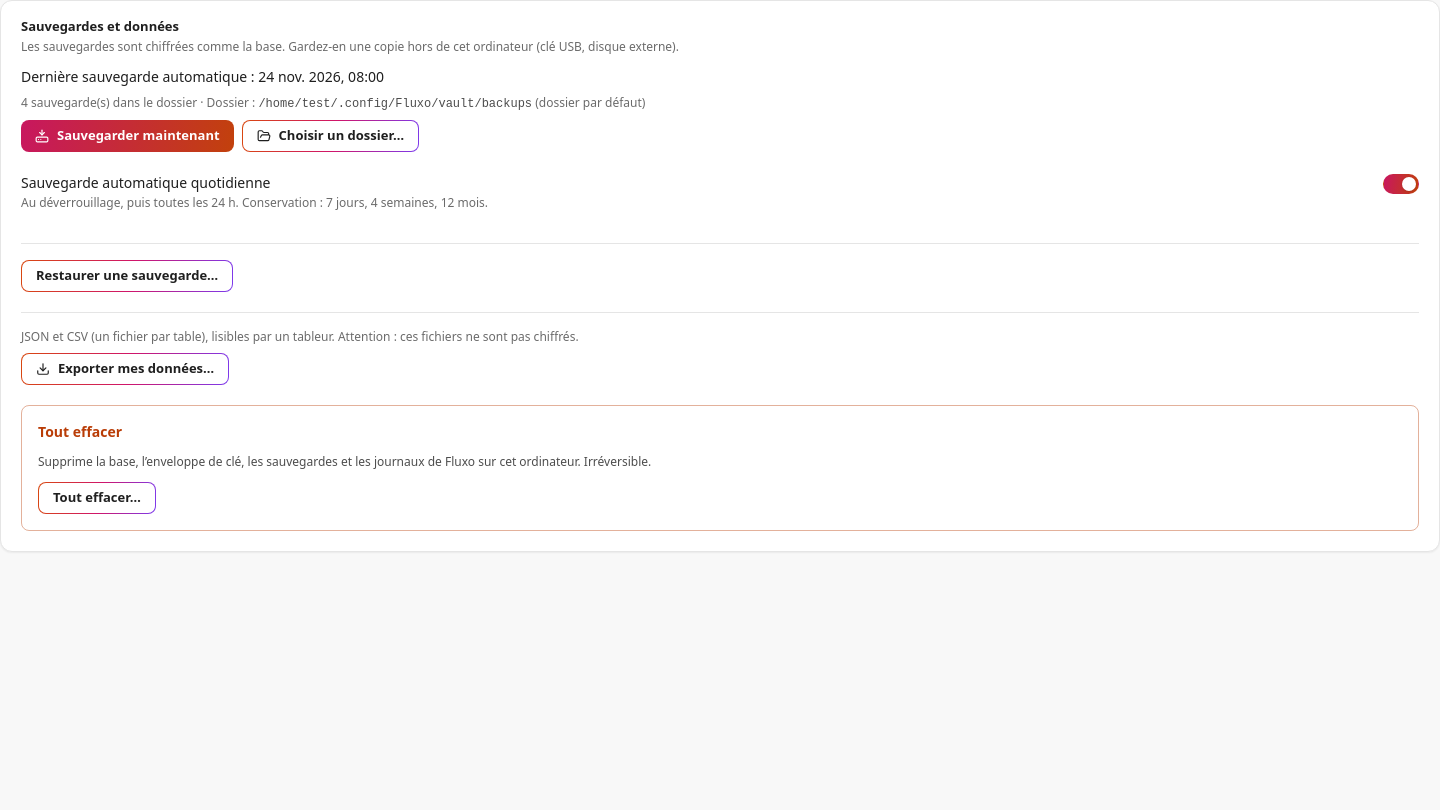
DataSettings › affiche l’état des sauvegardes et en crée une à la demande
This screenshot has width=1440, height=810.
Check: the text "4 sauvegarde(s)" is shown, box [21,94,197,110]
Click the button "Sauvegarder maintenant".
click(127, 136)  # box [21,120,234,152]
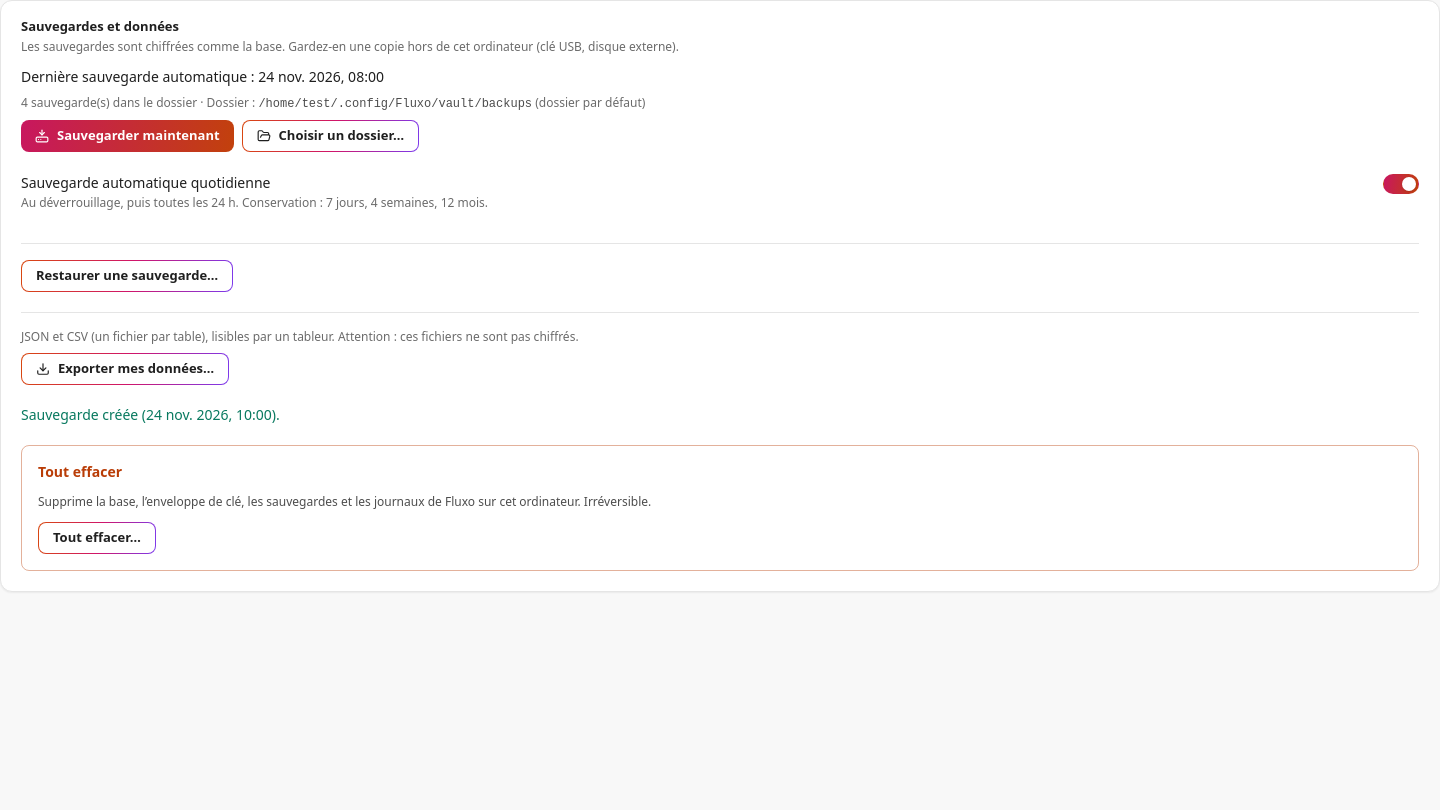
Check: the message shows "Sauvegarde créée", box [21,404,280,424]
